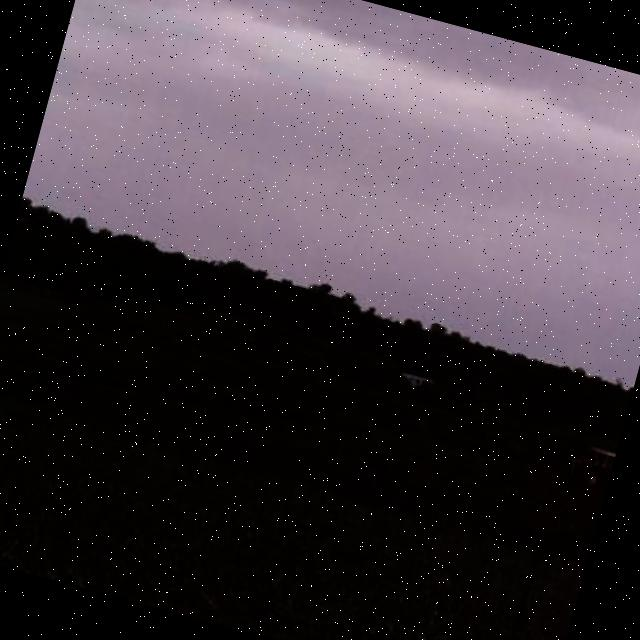Sc: (25, 1, 640, 356)
